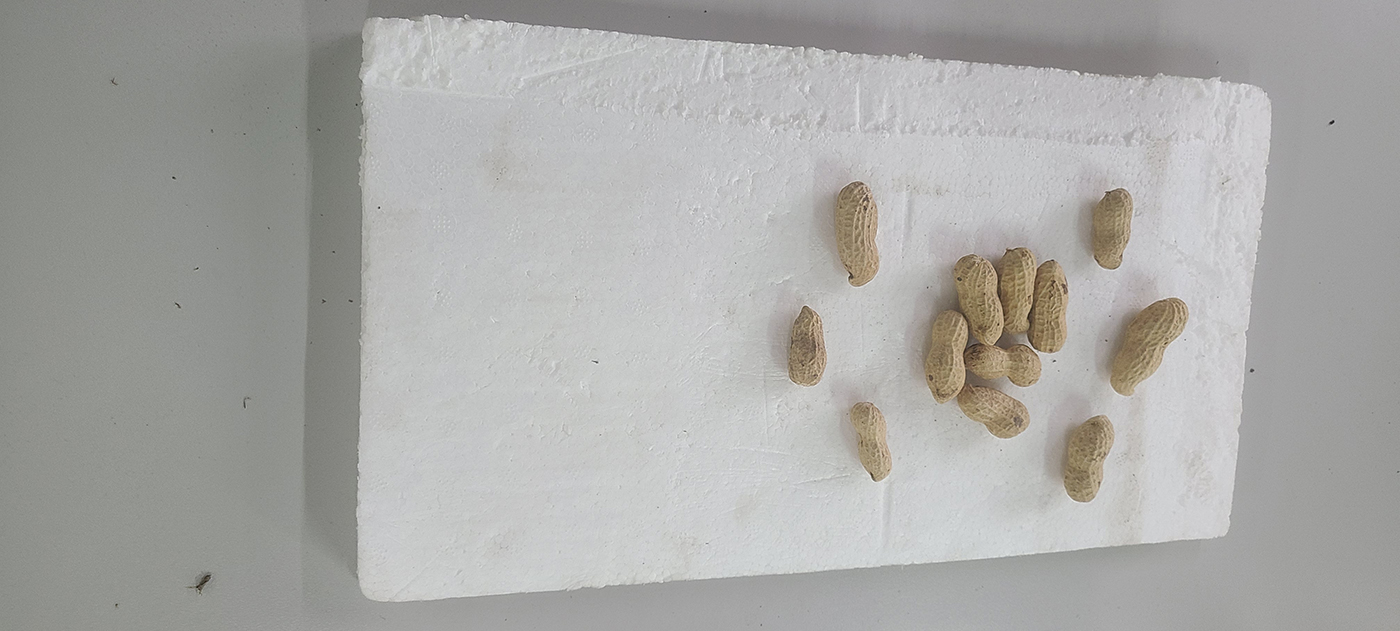h: (1110, 298, 1188, 395), (834, 182, 882, 287), (1062, 413, 1116, 503), (954, 255, 1004, 345), (926, 309, 969, 403), (1028, 259, 1070, 353), (958, 385, 1031, 439), (964, 343, 1041, 388), (1091, 188, 1133, 269), (850, 403, 892, 482), (1001, 248, 1037, 336), (788, 305, 826, 388)
